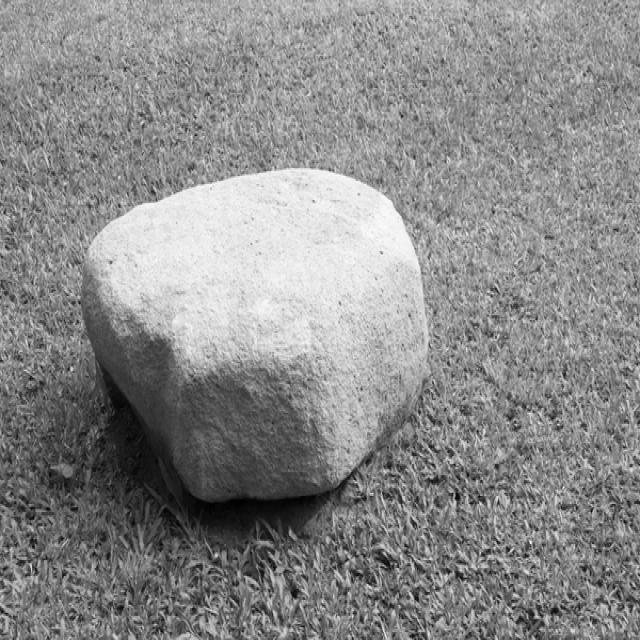Stone: (81, 172, 429, 502)
